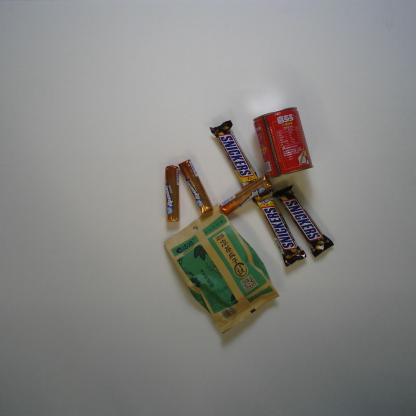Candy: (219, 174, 273, 216), (178, 159, 214, 213), (165, 165, 180, 222)
Canned Food: (252, 106, 313, 181)
Chocolate: (272, 184, 335, 258), (252, 189, 307, 267), (210, 119, 260, 191)
Dried Food: (162, 204, 280, 334)
